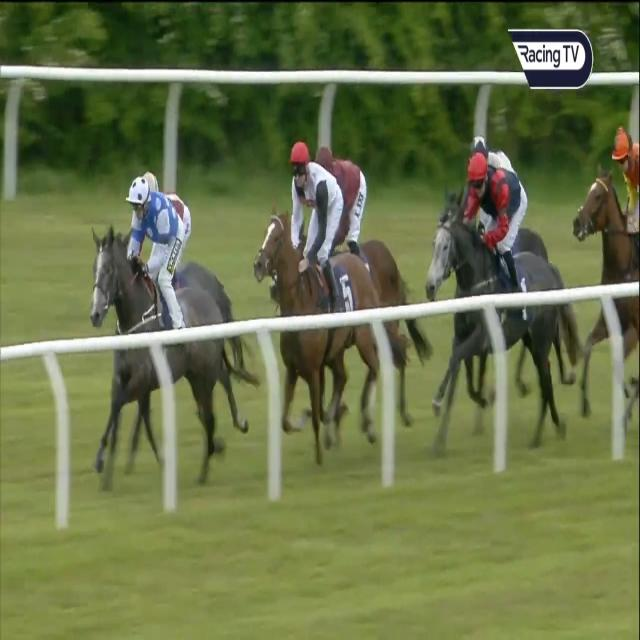horses-racing: (66, 170, 248, 469), (417, 140, 582, 452), (247, 130, 386, 449), (571, 119, 640, 436), (314, 138, 412, 338), (135, 161, 240, 337), (461, 120, 562, 266)
